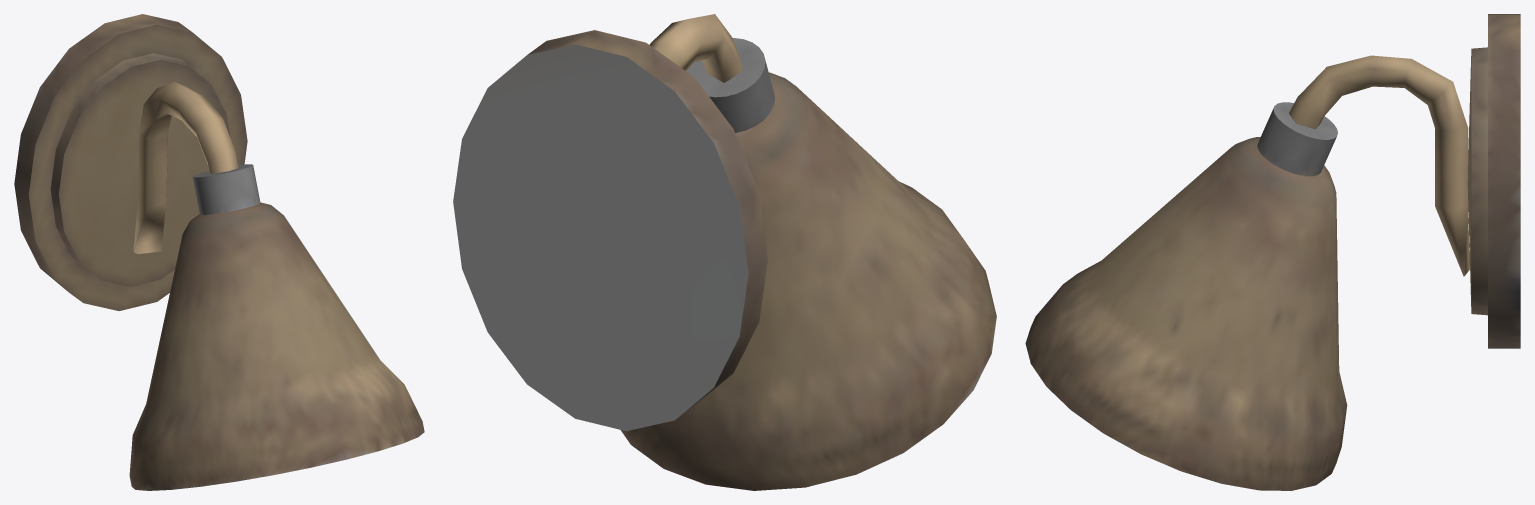
The model's file is Lamp_Wall_Desk.FBX.
The picture shows the model from 3 angles, left to right: view 1: azimuth 30°, elevation 25°; view 2: azimuth 150°, elevation 25°; view 3: azimuth 270°, elevation 25°; orthographic projection. The views are drawn at different scales.
Parts seen in each view (by area): view 1: Lamp_Wall_Desk_Lamp, Lamp_Wall_Desk; view 2: Lamp_Wall_Desk, Lamp_Wall_Desk_Lamp; view 3: Lamp_Wall_Desk_Lamp, Lamp_Wall_Desk.
Part boxes in pixels (x1,y1,x2,y2): Lamp_Wall_Desk_Lamp: (129,164,424,490); Lamp_Wall_Desk: (14,14,247,310); Lamp_Wall_Desk: (453,14,767,431); Lamp_Wall_Desk_Lamp: (621,38,996,490); Lamp_Wall_Desk_Lamp: (1025,102,1347,490); Lamp_Wall_Desk: (1289,14,1520,348).
Bounding box in the file's own units: 13.33 × 18.83 × 19.63.
